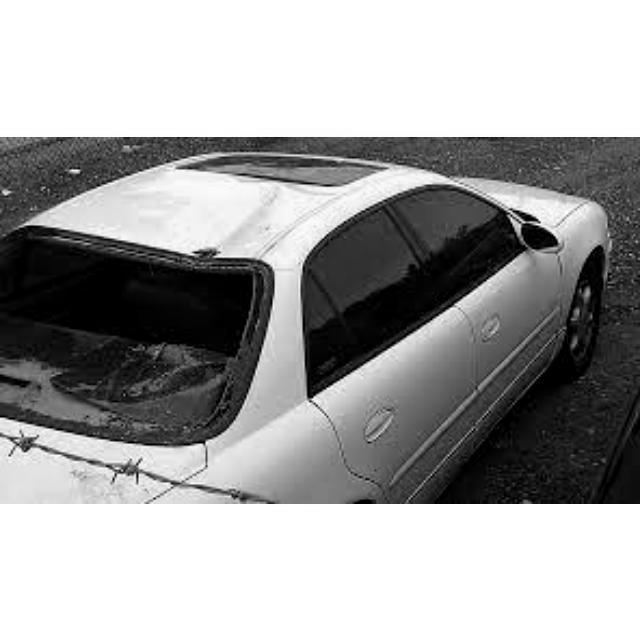roof-dent: (59, 169, 340, 266)
